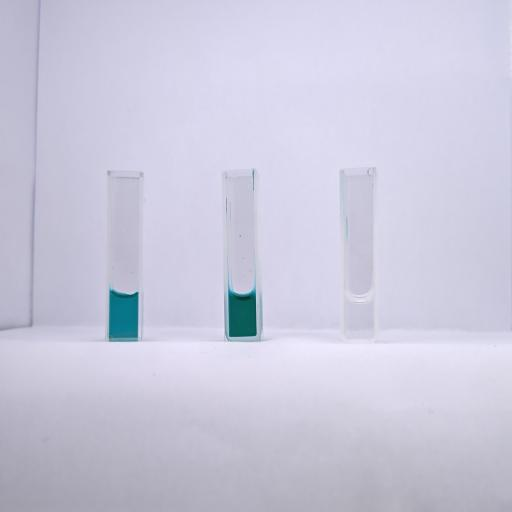cuvette: (218, 167, 263, 343), (338, 166, 380, 344), (104, 169, 146, 342)
liquid: (108, 292, 138, 338), (228, 292, 256, 336), (346, 294, 373, 339)
